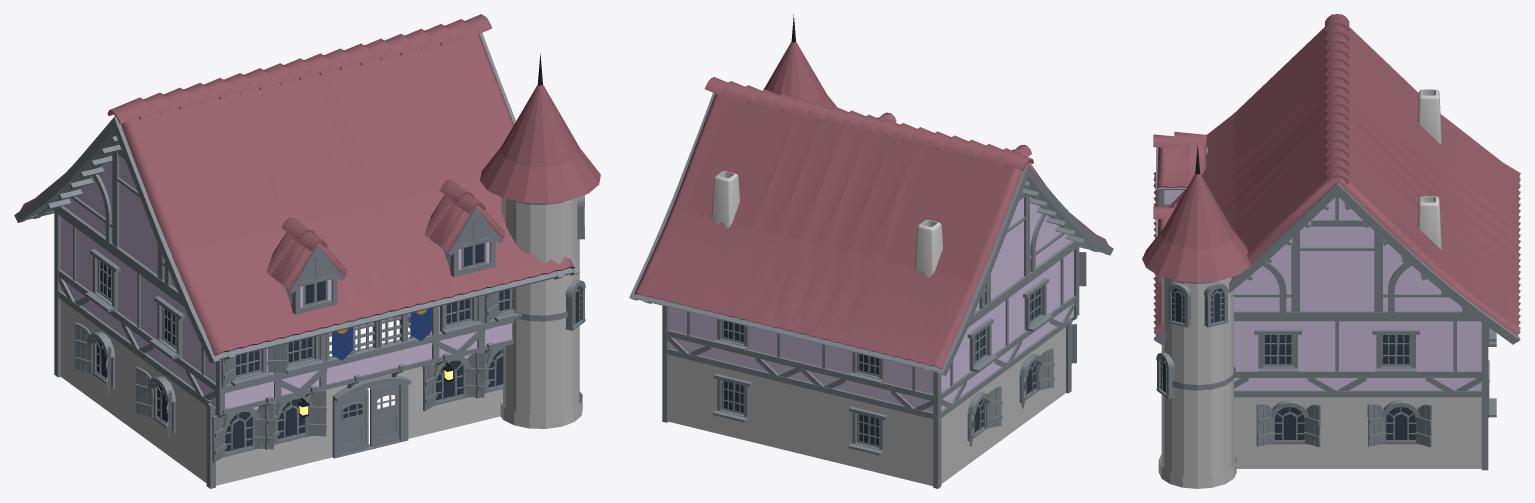
The model's file is guild_hall.gltf.
The picture shows the model from 3 angles, left to right: view 1: azimuth 30°, elevation 25°; view 2: azimuth 150°, elevation 25°; view 3: azimuth 270°, elevation 25°; orthographic projection. The views are drawn at different scales.
Parts seen in each view (by area): view 1: Roof_RoundTiles_8x12.100, Tower.123, TowerRoof.130, Roof_Front_Brick8.101, Roof_Dormer_RoundTile.103, Roof_Dormer_RoundTile.104, Wall_Plaster_Straight+upper.085, Wall_Plaster_Straight+upper.082, Wall_UnevenBrick_Straight.033, Wall_Plaster_WoodGrid+upper.068, DoorFrame_Round_WoodDark.008, Wall_Plaster_WoodGrid+upper.067 (+38 smaller); view 2: Roof_RoundTiles_8x12.100, Roof_Front_Brick8.101, Wall_UnevenBrick_Straight.020, Wall_UnevenBrick_Straight.021, Wall_UnevenBrick_Straight.017, Wall_UnevenBrick_Straight.024, TowerRoof.130, Wall_UnevenBrick_Window_Wide_Flat.018, Wall_UnevenBrick_Window_Wide_Flat.022, Wall_Plaster_Straight+upper.078, Wall_Plaster_Straight+upper.077, Wall_Plaster_Straight+upper.085 (+26 smaller); view 3: Roof_RoundTiles_8x12.100, Roof_Front_Brick8.102, Tower.123, TowerRoof.130, Wall_Plaster_Straight+upper.092, Wall_Plaster_Straight+upper.095, Wall_UnevenBrick_Straight.038, Wall_UnevenBrick_Straight.042, Roof_Dormer_RoundTile.103, Wall_Plaster_Window_Wide_Flat+upper.093, Wall_Plaster_Window_Wide_Flat+upper.090, Wall_UnevenBrick_Window_Wide_Round.035 (+18 smaller).
Boxes of the visible parts, left/top/right/bottom form: Roof_RoundTiles_8x12.100: left=14, top=14, right=580, bottom=363; Tower.123: left=501, top=197, right=579, bottom=415; TowerRoof.130: left=480, top=84, right=600, bottom=203; Roof_Front_Brick8.101: left=46, top=136, right=182, bottom=303; Roof_Dormer_RoundTile.103: left=266, top=216, right=346, bottom=314; Roof_Dormer_RoundTile.104: left=424, top=179, right=504, bottom=277; Wall_Plaster_Straight+upper.085: left=121, top=259, right=155, bottom=359; Wall_Plaster_Straight+upper.082: left=58, top=213, right=91, bottom=312; Wall_UnevenBrick_Straight.033: left=178, top=378, right=210, bottom=483; Wall_Plaster_WoodGrid+upper.068: left=378, top=313, right=432, bottom=371; DoorFrame_Round_WoodDark.008: left=332, top=375, right=411, bottom=458; Wall_Plaster_WoodGrid+upper.067: left=326, top=321, right=380, bottom=384; Roof_RoundTiles_8x12.100: left=629, top=77, right=1113, bottom=375; Roof_Front_Brick8.101: left=969, top=181, right=1085, bottom=324; Wall_UnevenBrick_Straight.020: left=755, top=369, right=801, bottom=453; Wall_UnevenBrick_Straight.021: left=800, top=380, right=846, bottom=464; Wall_UnevenBrick_Straight.017: left=667, top=348, right=711, bottom=431; Wall_UnevenBrick_Straight.024: left=890, top=402, right=933, bottom=485; TowerRoof.130: left=763, top=42, right=836, bottom=107; Wall_UnevenBrick_Window_Wide_Flat.018: left=710, top=358, right=756, bottom=442; Wall_UnevenBrick_Window_Wide_Flat.022: left=845, top=391, right=891, bottom=475; Wall_Plaster_Straight+upper.078: left=800, top=339, right=846, bottom=391; Wall_Plaster_Straight+upper.077: left=755, top=328, right=801, bottom=380; Wall_Plaster_Straight+upper.085: left=992, top=286, right=1022, bottom=372; Roof_RoundTiles_8x12.100: left=1153, top=14, right=1520, bottom=344; Roof_Front_Brick8.102: left=1231, top=195, right=1476, bottom=318; Tower.123: left=1161, top=277, right=1233, bottom=476; TowerRoof.130: left=1142, top=174, right=1250, bottom=282; Wall_Plaster_Straight+upper.092: left=1307, top=319, right=1366, bottom=391; Wall_Plaster_Straight+upper.095: left=1425, top=319, right=1481, bottom=391; Wall_UnevenBrick_Straight.038: left=1317, top=390, right=1373, bottom=468; Wall_UnevenBrick_Straight.042: left=1429, top=390, right=1481, bottom=468; Roof_Dormer_RoundTile.103: left=1153, top=131, right=1207, bottom=207; Wall_Plaster_Window_Wide_Flat+upper.093: left=1366, top=319, right=1425, bottom=390; Wall_Plaster_Window_Wide_Flat+upper.090: left=1248, top=319, right=1307, bottom=390; Wall_UnevenBrick_Window_Wide_Round.035: left=1262, top=390, right=1317, bottom=468.
Bounding box in the file's own units: 15.32 × 13.01 × 13.59.
